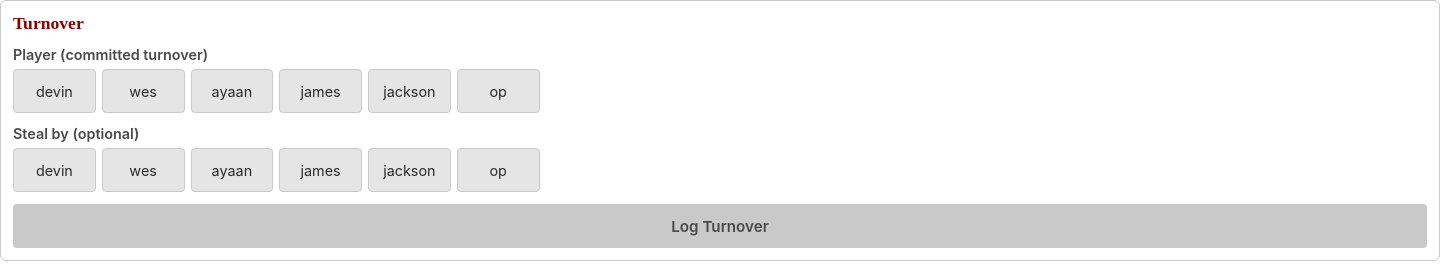
Scenario: TurnoverPanel › stealer picker excludes the currently selected primary player
Note: Pick jackson as the primary turnover committer
Click the button "jackson" below "Player (committed turnover)". click: (409, 91)
box: x1=368 y1=69 x2=451 y2=113
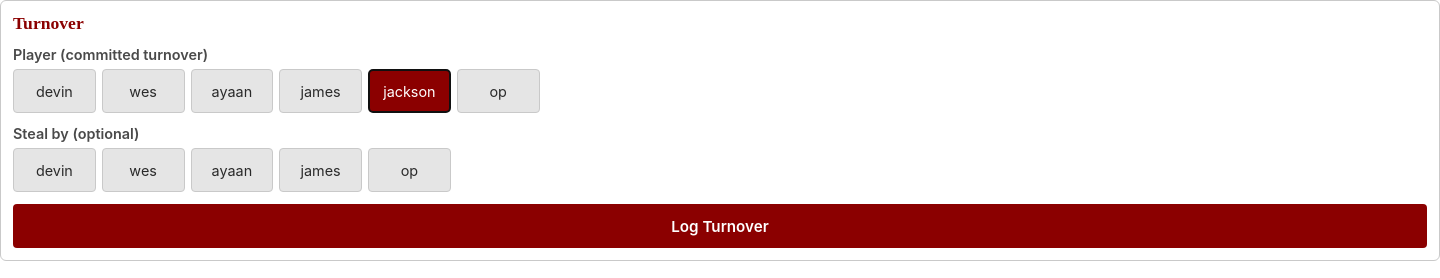
Expected: the number of buttons "jackson" is 1, x1=368 y1=69 x2=451 y2=113
